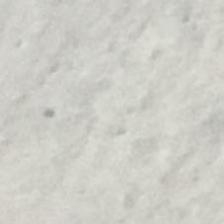Non_Crack: (20, 14, 192, 183)
